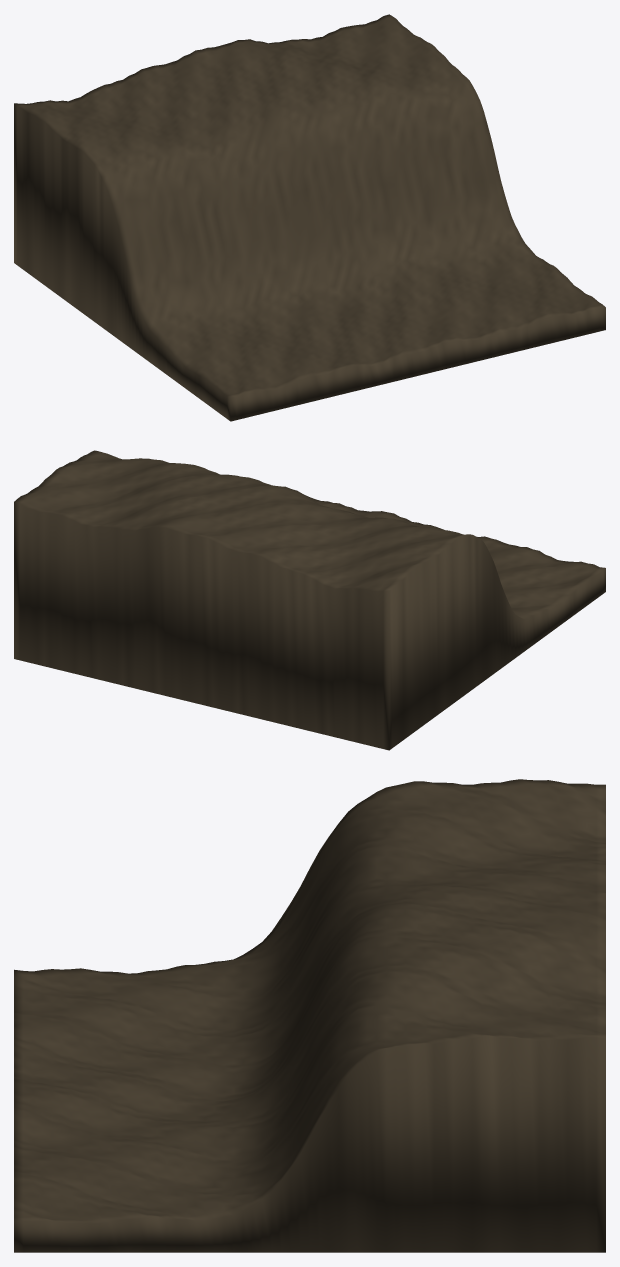
The model's file is eroded-bank.glb.
3 renders of one model, top to bottom at view 1: azimuth 30°, elevation 25°; view 2: azimuth 150°, elevation 25°; view 3: azimuth 270°, elevation 25°, orthographic. The views are drawn at different scales.
Parts seen in each view (by area): view 1: eroded-bank; view 2: eroded-bank; view 3: eroded-bank.
Boxes of the visible parts, left/top/right/bottom form: eroded-bank: left=14, top=14, right=605, bottom=421; eroded-bank: left=14, top=450, right=605, bottom=750; eroded-bank: left=14, top=779, right=605, bottom=1252.
Size of the model in its own units: 3 by 1.29 by 3.
